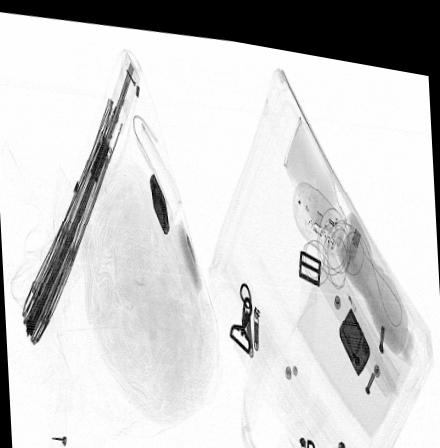Lighter: (338, 293, 369, 363), (149, 167, 169, 228)
